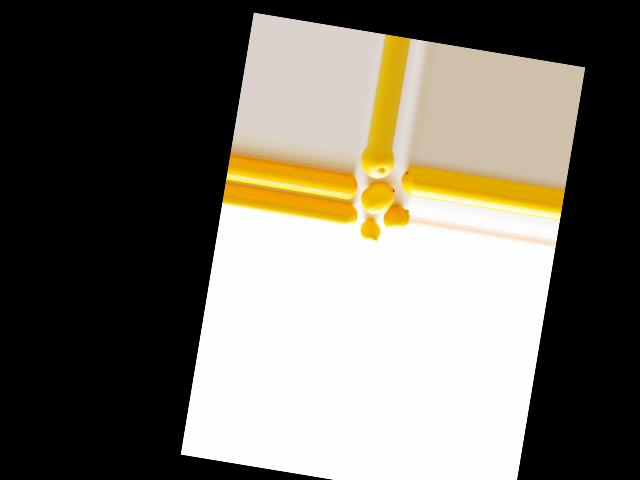lemon: (395, 167, 418, 200)
